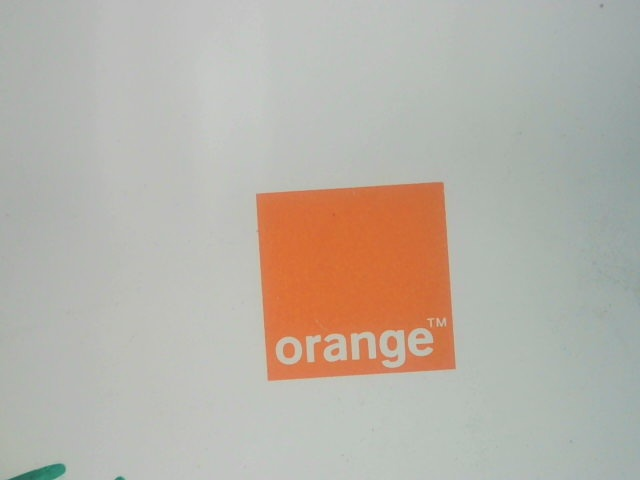AR_Orange: (241, 180, 462, 375)
